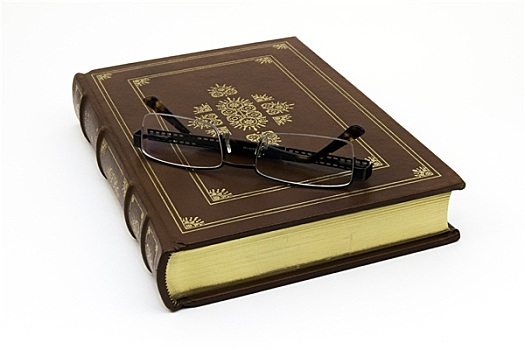book: (69, 31, 465, 316)
